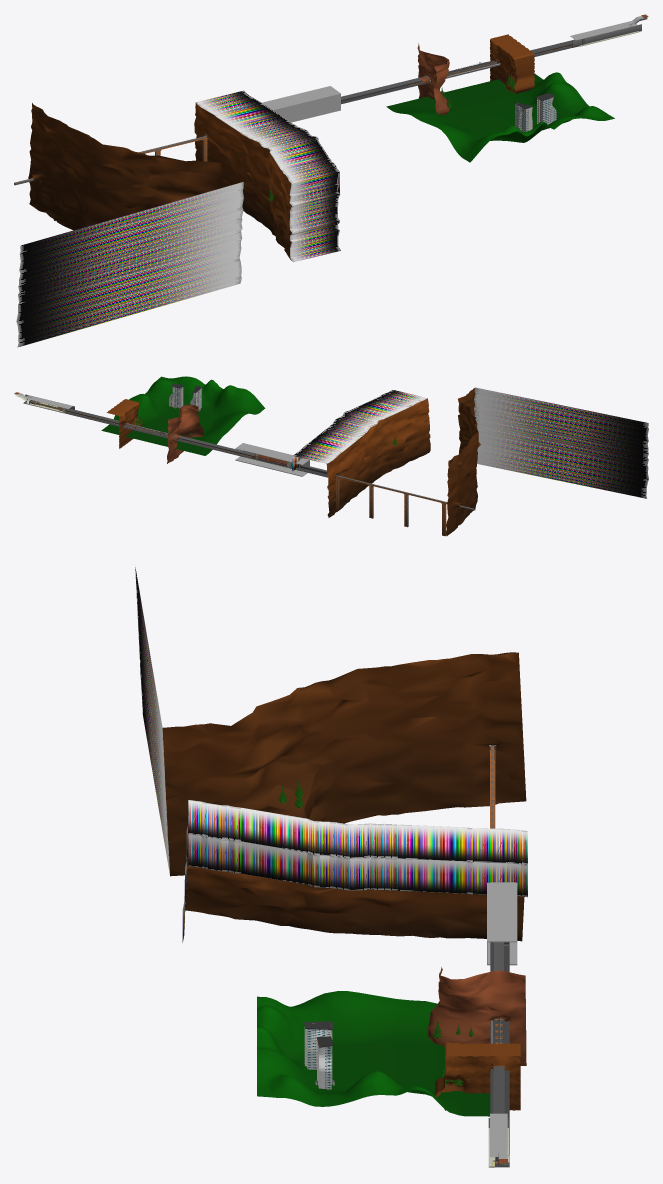
The model's file is Level2Pre.fbx.
3 renders of one model, top to bottom at view 1: azimuth 30°, elevation 25°; view 2: azimuth 150°, elevation 25°; view 3: azimuth 270°, elevation 25°, orthographic. The views are drawn at different scales.
Parts seen in each view (by area): view 1: Clifs, City, BackShadow, Station1, RailwayFloor, Building16Floors4; view 2: Clifs, City, BackShadow, RailwayFloor, Aviaduck, Station1, Station2, AviaduckSteel, Building16Floors4; view 3: Clifs, City, BackShadow, Station1, RailwayFloor, Building16Floors5, Building16Floors4.
Boxes of the visible parts, x1,y1,x2,y2 form: Clifs: [16, 90, 340, 347]; City: [386, 34, 614, 162]; BackShadow: [262, 86, 340, 122]; Station1: [495, 16, 647, 63]; RailwayFloor: [205, 45, 579, 136]; Building16Floors4: [536, 93, 556, 124]; Clifs: [292, 387, 648, 535]; City: [101, 376, 265, 463]; BackShadow: [235, 443, 309, 476]; RailwayFloor: [23, 401, 336, 477]; Aviaduck: [336, 475, 474, 536]; Station1: [14, 393, 126, 425]; Station2: [173, 434, 336, 474]; AviaduckSteel: [336, 476, 446, 535]; Building16Floors4: [169, 383, 184, 408]; Clifs: [135, 567, 527, 942]; City: [257, 967, 526, 1116]; BackShadow: [487, 882, 517, 965]; Station1: [488, 1066, 509, 1167]; RailwayFloor: [490, 942, 509, 1167]; Building16Floors5: [304, 1021, 333, 1069]; Building16Floors4: [315, 1036, 334, 1089].
Bounding box in the file's own units: 167520 × 25376 × 52450.
Materials: 16 (10 with a texture image).
